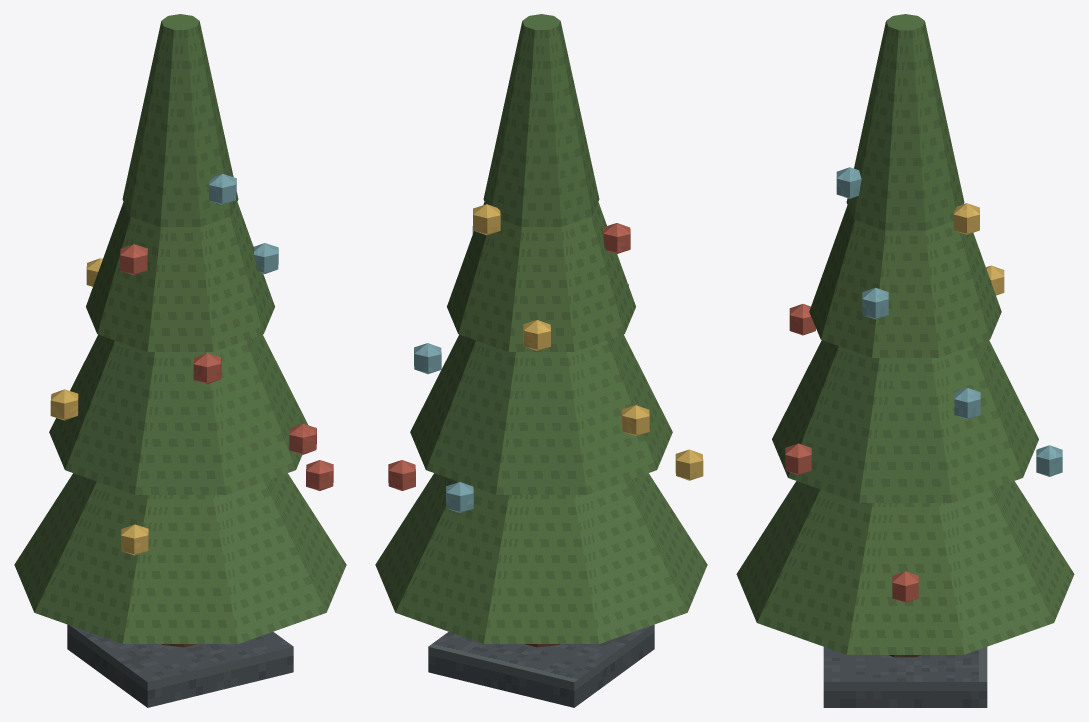
The model's file is f_decorative_tree.glb.
3 views of the same model, side by side, from view 1: azimuth 30°, elevation 25°; view 2: azimuth 150°, elevation 25°; view 3: azimuth 270°, elevation 25° (orthographic).
Parts seen in each view (by area): view 1: block_evergreen-tier (×4), block_tree-stand, block_winter-ornament (×8); view 2: block_evergreen-tier (×4), block_tree-stand, block_winter-ornament (×8); view 3: block_evergreen-tier (×4), block_tree-stand, block_winter-ornament (×8).
Boxes of the visible parts, x1=… form: block_evergreen-tier (×4): x1=14, y1=14, x2=346, y2=643; block_tree-stand: x1=67, y1=624, x2=293, y2=707; block_winter-ornament (×8): x1=50, y1=174, x2=333, y2=555; block_evergreen-tier (×4): x1=375, y1=14, x2=707, y2=643; block_tree-stand: x1=428, y1=624, x2=654, y2=707; block_winter-ornament (×8): x1=388, y1=204, x2=703, y2=512; block_evergreen-tier (×4): x1=736, y1=14, x2=1074, y2=654; block_tree-stand: x1=823, y1=647, x2=987, y2=707; block_winter-ornament (×8): x1=785, y1=167, x2=1062, y2=602.
Bounding box in the file's own units: 0.8807 × 1.79 × 0.8469.
Materials: 1 (1 with a texture image).
